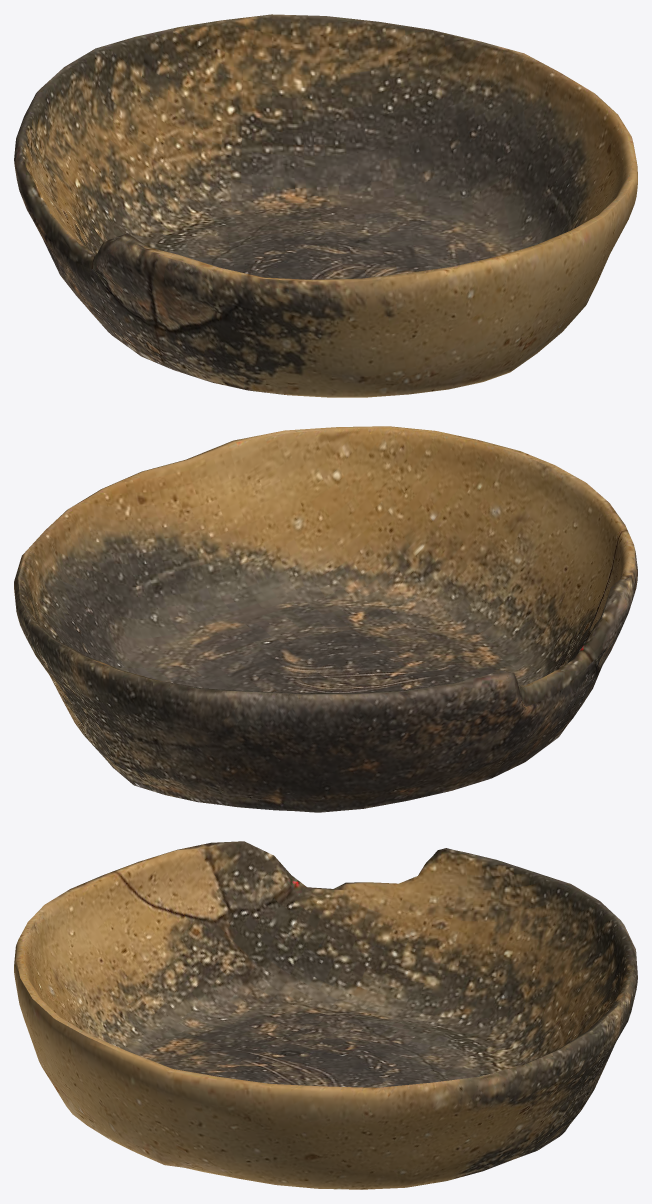
Rendered from antiquity2_25.fbx.
The picture shows the model from 3 angles, top to bottom: view 1: azimuth 30°, elevation 25°; view 2: azimuth 150°, elevation 25°; view 3: azimuth 270°, elevation 25°; orthographic projection. The views are drawn at different scales.
Parts seen in each view (by area): view 1: default1; view 2: default1; view 3: default1.
Part boxes in pixels (<box>): default1: <box>14,14,637,397</box>; default1: <box>14,426,637,812</box>; default1: <box>14,841,637,1189</box>.
Size of the model in its own units: 35.54 by 10.27 by 38.54.
1 material, 1 textured.
